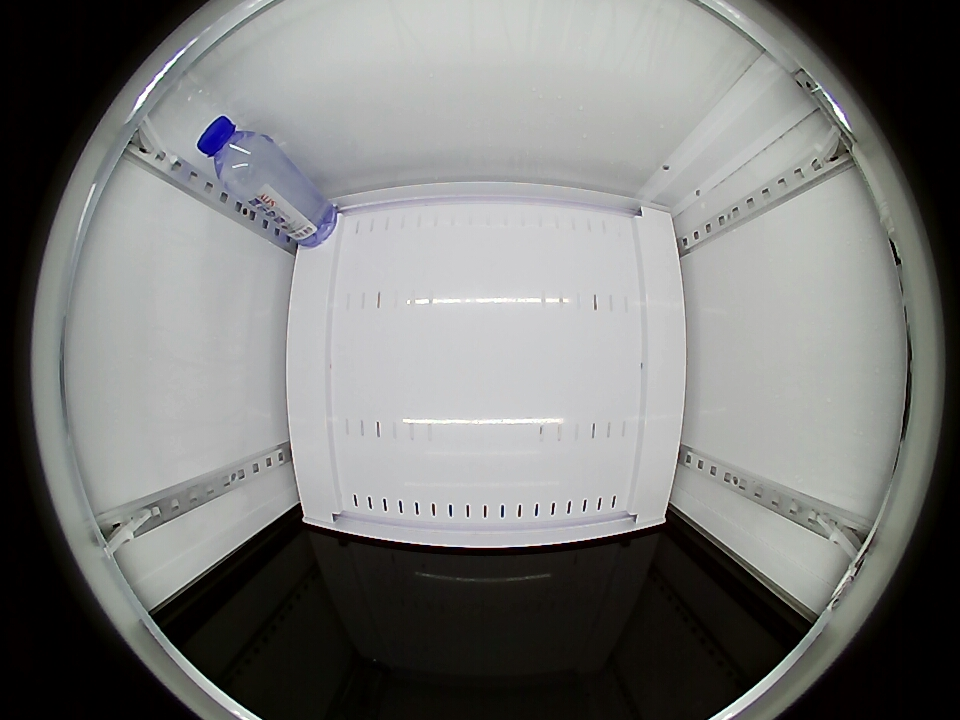aerbeisi: (196, 115, 278, 196)
